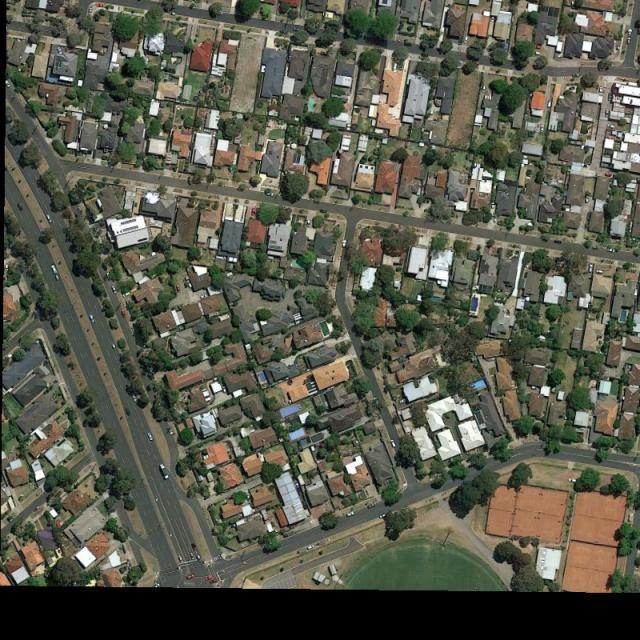vehicle: (160, 463, 169, 479), (50, 263, 58, 274), (111, 285, 118, 294), (146, 432, 153, 441), (367, 503, 376, 510), (390, 438, 396, 448), (606, 247, 616, 253), (605, 106, 610, 118), (122, 291, 130, 298), (588, 262, 593, 273), (46, 214, 52, 223), (111, 342, 117, 351), (168, 426, 174, 435), (342, 238, 347, 248), (540, 123, 545, 133), (547, 98, 552, 108), (90, 314, 95, 323), (126, 407, 131, 416), (585, 194, 590, 203), (626, 36, 631, 45), (96, 2, 104, 7), (177, 283, 181, 293), (132, 394, 137, 402), (190, 552, 195, 560), (178, 554, 183, 562), (186, 574, 194, 579), (346, 512, 354, 517), (378, 513, 386, 518), (250, 207, 255, 215), (596, 269, 604, 274), (607, 124, 615, 129), (608, 92, 613, 100), (6, 78, 10, 87), (106, 272, 110, 281), (530, 386, 539, 390), (266, 192, 273, 197), (306, 219, 311, 226), (627, 29, 632, 36), (122, 310, 126, 318), (569, 478, 577, 482), (482, 85, 486, 93), (308, 545, 314, 550), (88, 6, 91, 15), (491, 202, 495, 208), (494, 216, 497, 223), (5, 265, 8, 271)
